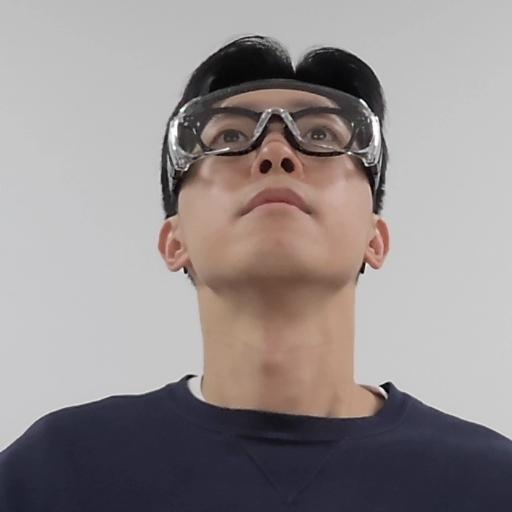glasses: (154, 36, 403, 326)
